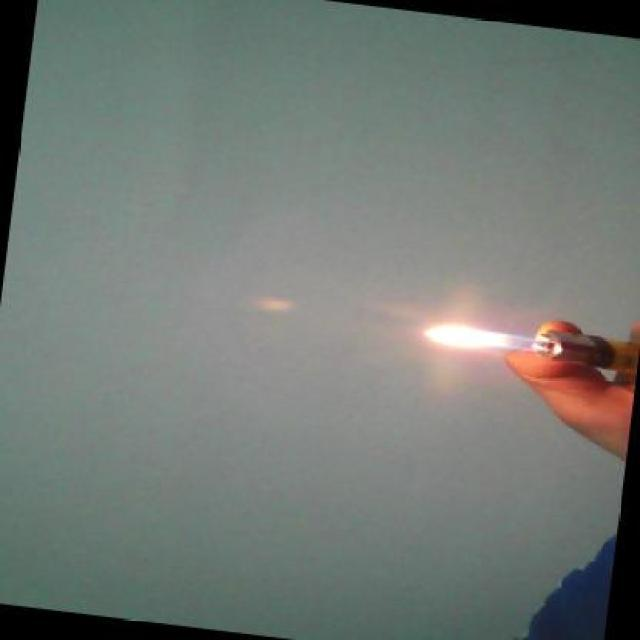Fire: (406, 318, 533, 360)
